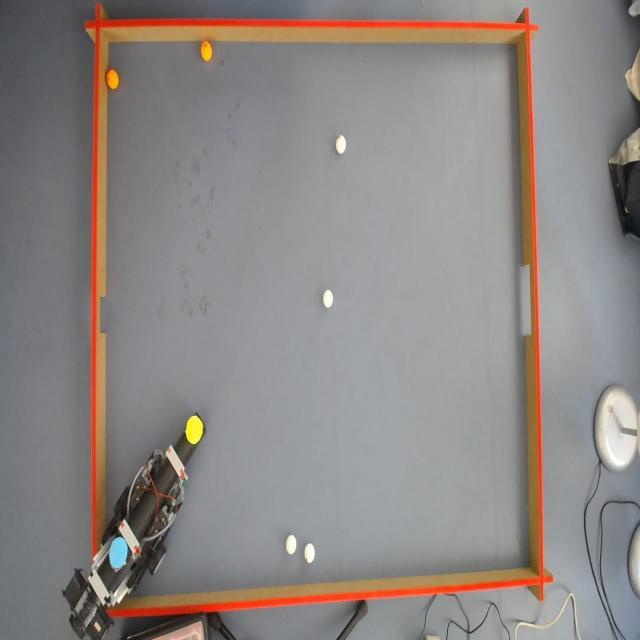orange: (107, 68, 122, 88), (200, 41, 212, 64)
robot: (62, 423, 202, 634)
robot-front: (186, 416, 203, 444)
robot-rear: (109, 536, 128, 568)
white: (321, 288, 334, 310), (304, 543, 317, 564), (286, 535, 298, 557), (335, 132, 347, 154)
